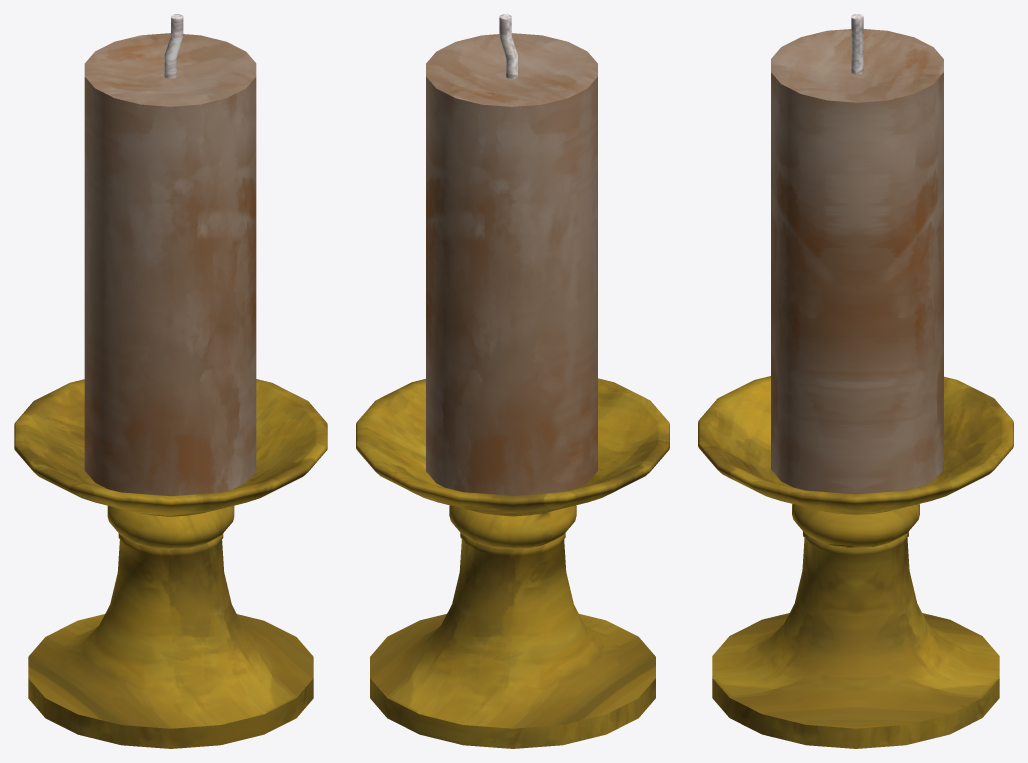
Rendered from House_Candle_v01.fbx.
The picture shows the model from 3 angles, left to right: view 1: azimuth 30°, elevation 25°; view 2: azimuth 150°, elevation 25°; view 3: azimuth 270°, elevation 25°; orthographic projection.
Visible parts, largest first — view 1: Candle; view 2: Candle; view 3: Candle.
Part boxes in pixels (x1,y1,x2,y2): Candle: (14,14,327,748); Candle: (356,14,669,748); Candle: (698,14,1013,748).
Size of the model in its own units: 8.78 by 8.65 by 20.37.
Materials: 3 (3 with a texture image).
